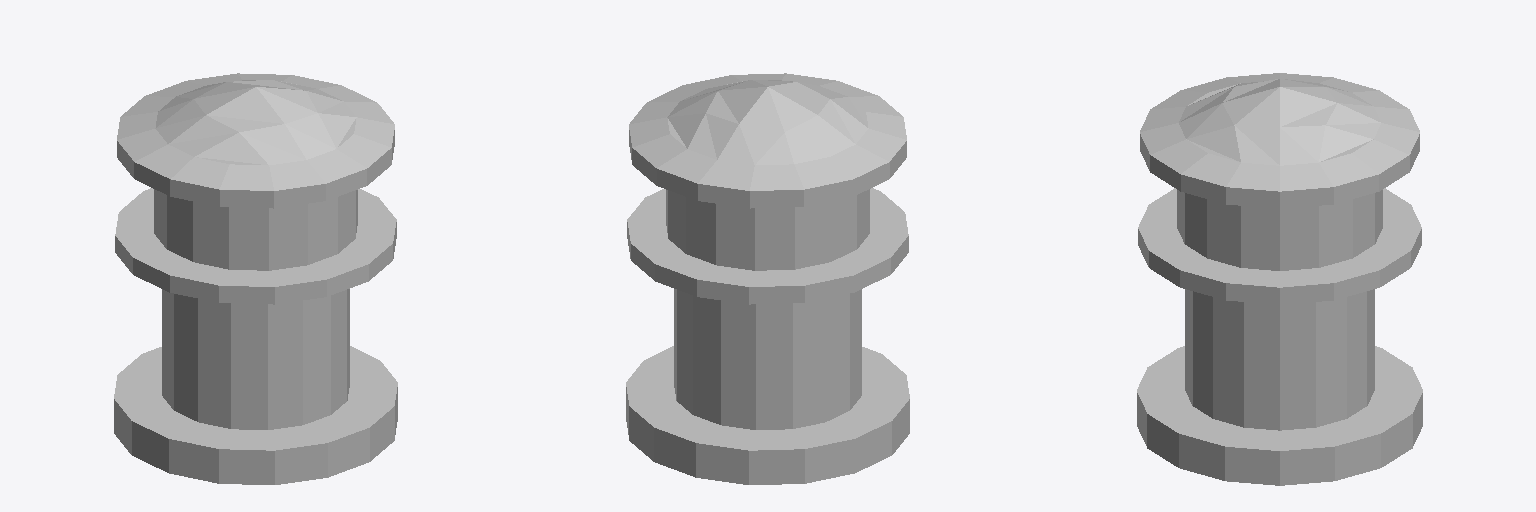
The model's file is watchtower.obj.
3 renders of one model, left to right at view 1: azimuth 30°, elevation 25°; view 2: azimuth 150°, elevation 25°; view 3: azimuth 270°, elevation 25°, orthographic.
Parts seen in each view (by area): view 1: Cylinder; view 2: Cylinder; view 3: Cylinder.
Boxes of the visible parts, x1,y1,x2,y2 form: Cylinder: [114, 73, 397, 484]; Cylinder: [626, 73, 909, 484]; Cylinder: [1137, 73, 1422, 485].
Size of the model in its own units: 1.5 by 1.95 by 1.5.